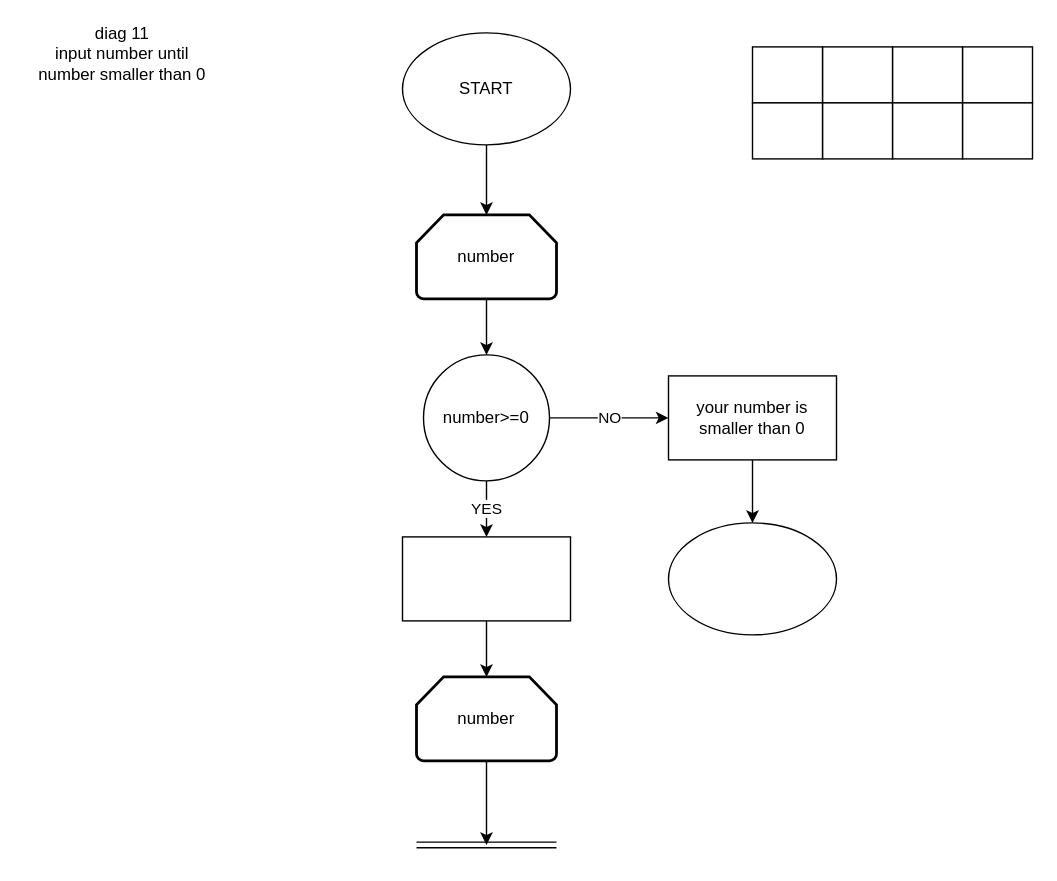
Image size: 1057x881. Some labels were removed from this diagram. The shapes that lost their labels are listed below. From the top down, each one's box as (x1, y1, x2, y2) in pixels, then its label:
(401, 536, 570, 621): try a different number
(667, 522, 836, 635): STOP
